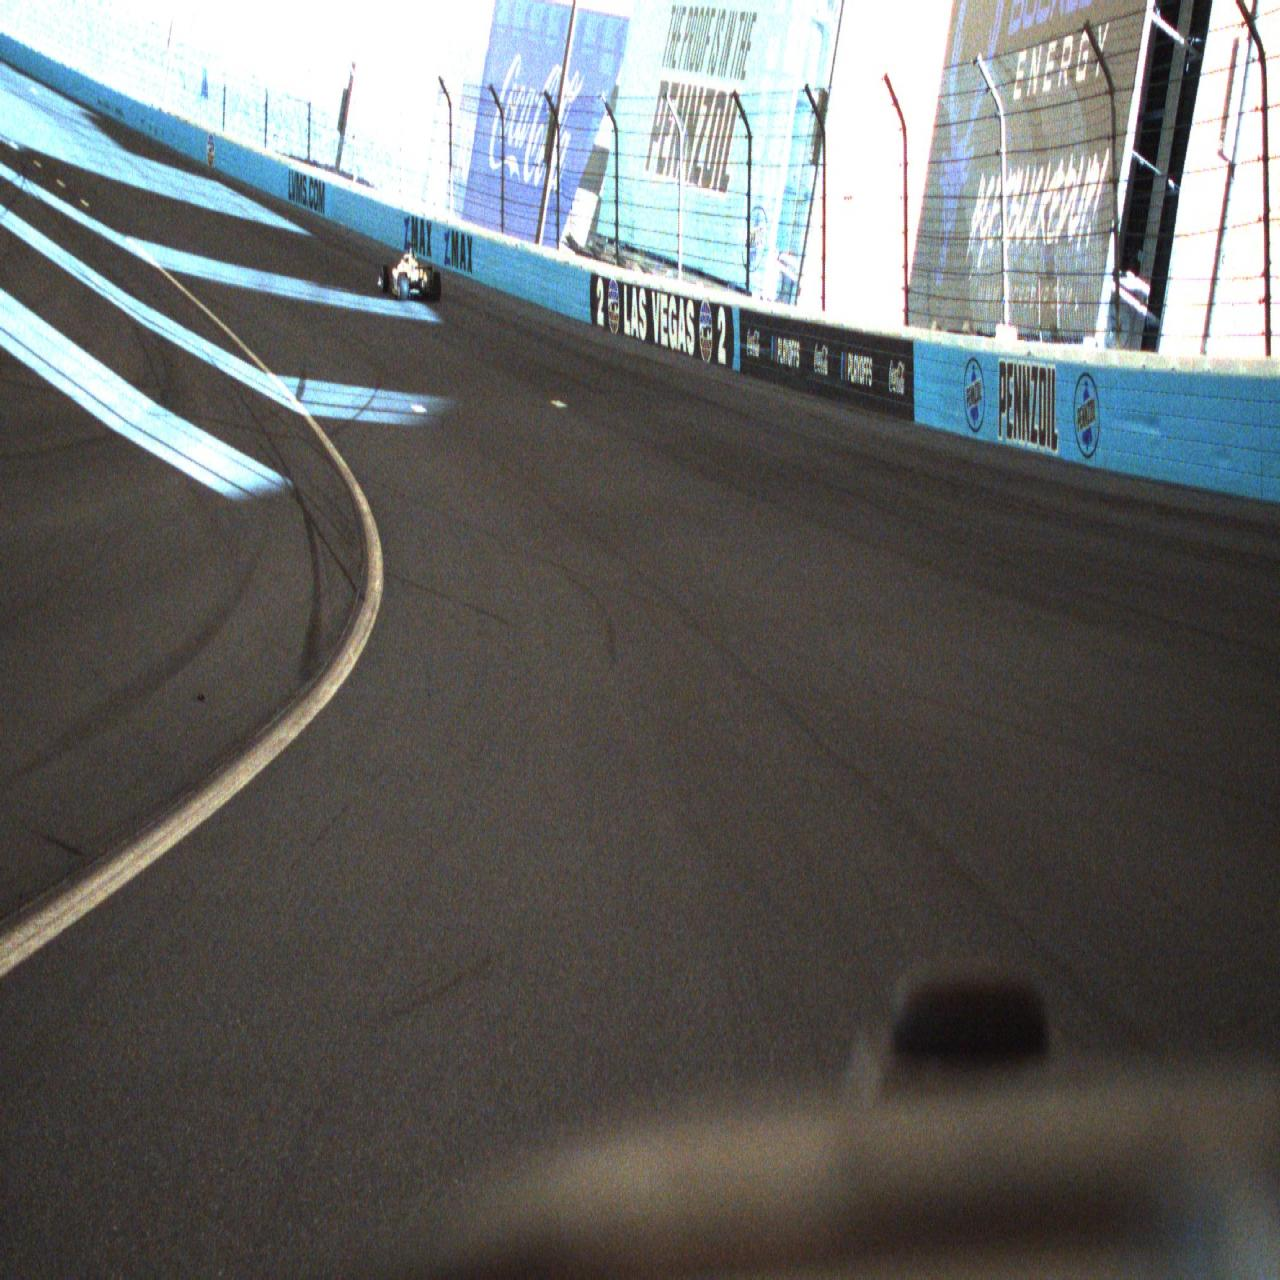AV: (377, 242, 442, 301)
Wheel: (398, 273, 408, 300), (432, 271, 441, 301), (381, 265, 389, 293)
